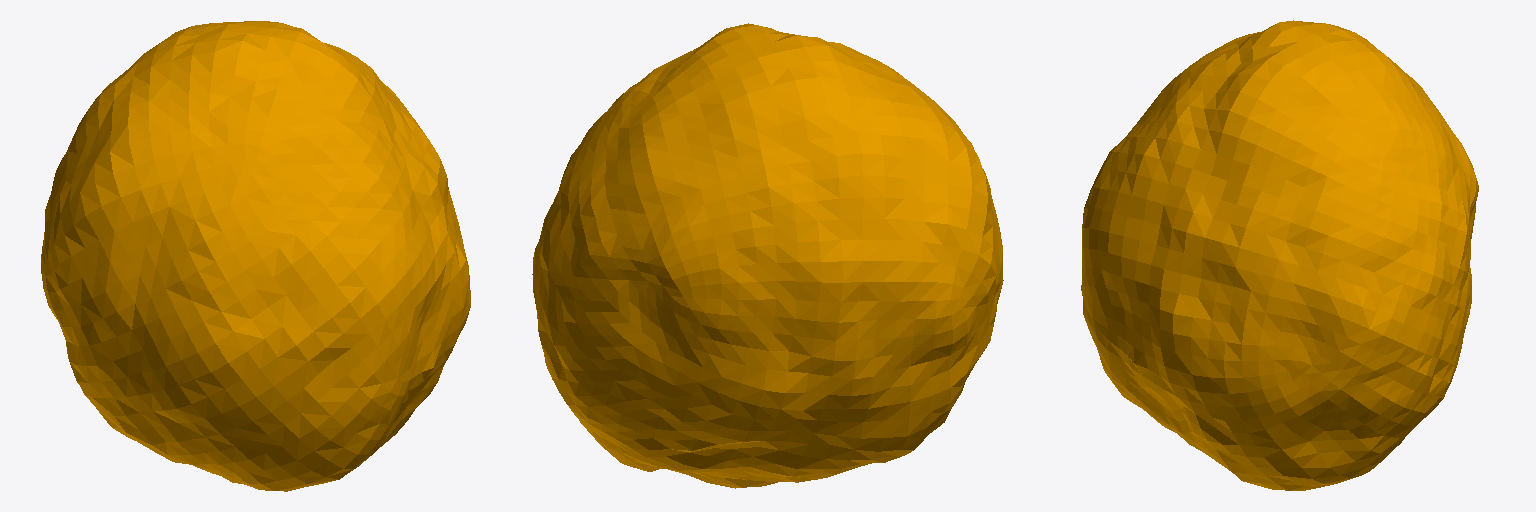
The robot description file, URDF, robot "rock":
<?xml version="1.0" ?>
<robot name="rock">
  <link name="rock">
    <inertial>
      <mass value="0.25"/>
      <origin rpy="0 0 0" xyz="0 0 0"/>
      <inertia ixx="0.00025" ixy="0" ixz="0" iyy="0.00025" iyz="0" izz="0.00025"/>
    </inertial>
    <collision name="rock_collision">
      <origin rpy="0 0 0" xyz="0 0 0"/>
      <geometry>
        <mesh filename="package://rocks/collision/25.stl" scale="1 1 1"/>
      </geometry>
    </collision>
    <visual name="rock_visual">
      <origin rpy="0 0 0" xyz="0 0 0"/>
      <geometry>
        <mesh filename="package://rocks/visual/25.dae" scale="1 1 1"/>
      </geometry>
    </visual>
  </link>
</robot>

--- Render facts (derived) ---
The picture shows the robot from 3 angles, left to right: view 1: azimuth 30°, elevation 25°; view 2: azimuth 150°, elevation 25°; view 3: azimuth 270°, elevation 25°; orthographic projection.
Robot: rock — 1 links, 0 joints (none); root link rock; default pose: all joints at 0.
Links seen in each view (by area): view 1: rock; view 2: rock; view 3: rock.
Link boxes in pixels (x1,y1,x2,y2): rock: [41, 21, 470, 491]; rock: [532, 23, 1003, 488]; rock: [1081, 20, 1478, 490].
Size in the robot's own frame: 0.0855 by 0.08 by 0.0918 metres.
1 mesh visuals loaded from 1 distinct referenced files (1 Collada DAE).